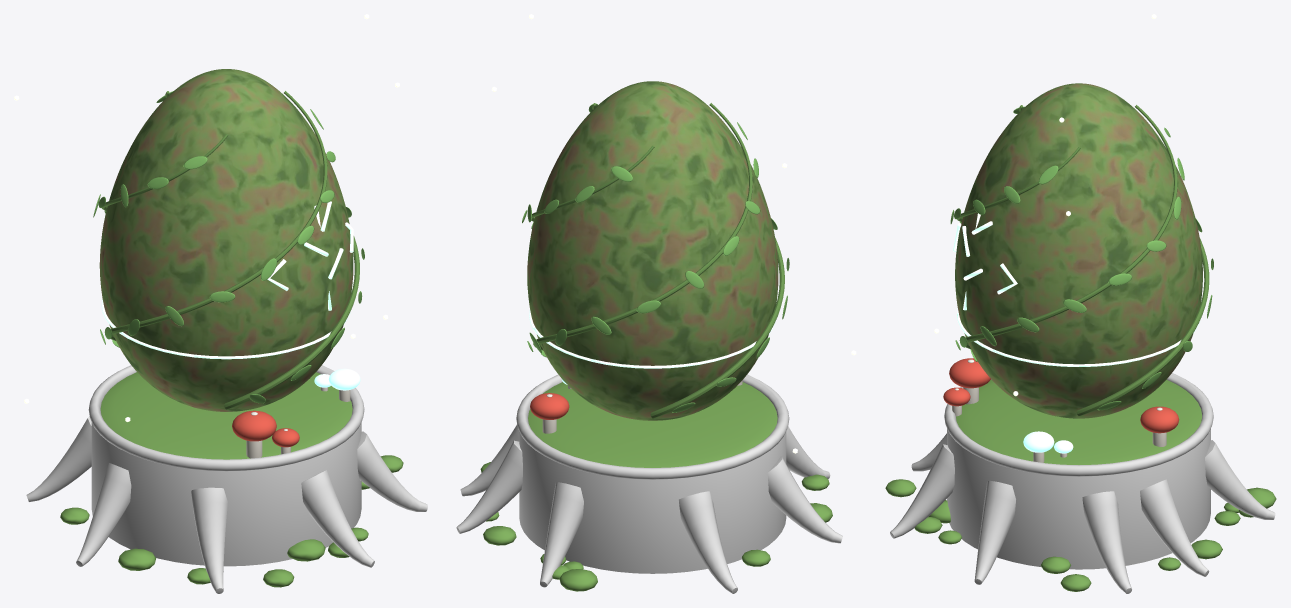
The model's file is ancientdruidegg.glb.
The picture shows the model from 3 angles, left to right: view 1: azimuth 30°, elevation 25°; view 2: azimuth 150°, elevation 25°; view 3: azimuth 270°, elevation 25°; orthographic projection. The views are drawn at different scales.
Visible parts, largest first — view 1: AncientDruidEgg_Body, AncientDruidEgg_Stump, AncientDruidEgg_MossTop, AncientDruidEgg_StumpRim, AncientDruidEgg_Root.005, AncientDruidEgg_Root.006, AncientDruidEgg_Root.004, AncientDruidEgg_Root.007, AncientDruidEgg_Root.003, AncientDruidEgg_Vine.001, AncientDruidEgg_Vine.002, AncientDruidEgg_ShroomCap (+3 smaller); view 2: AncientDruidEgg_Body, AncientDruidEgg_Stump, AncientDruidEgg_MossTop, AncientDruidEgg_StumpRim, AncientDruidEgg_Root.003, AncientDruidEgg_Root.002, AncientDruidEgg_Root.004, AncientDruidEgg_Root.001, AncientDruidEgg_Vine, AncientDruidEgg_Vine.001, AncientDruidEgg_Root.005, AncientDruidEgg_Root (+3 smaller); view 3: AncientDruidEgg_Body, AncientDruidEgg_Stump, AncientDruidEgg_MossTop, AncientDruidEgg_StumpRim, AncientDruidEgg_Root, AncientDruidEgg_Root.001, AncientDruidEgg_Root.007, AncientDruidEgg_Root.006, AncientDruidEgg_Root.002, AncientDruidEgg_Vine.002, AncientDruidEgg_Vine, AncientDruidEgg_ShroomCap (+2 smaller).
Boxes of the visible parts, left/top/right/bottom form: AncientDruidEgg_Body: left=99, top=69, right=353, bottom=411; AncientDruidEgg_Stump: left=91, top=422, right=361, bottom=566; AncientDruidEgg_MossTop: left=100, top=372, right=352, bottom=459; AncientDruidEgg_StumpRim: left=88, top=365, right=364, bottom=471; AncientDruidEgg_Root.005: left=191, top=487, right=227, bottom=593; AncientDruidEgg_Root.006: left=301, top=470, right=374, bottom=567; AncientDruidEgg_Root.004: left=76, top=463, right=131, bottom=566; AncientDruidEgg_Root.007: left=357, top=431, right=427, bottom=511; AncientDruidEgg_Root.003: left=26, top=416, right=91, bottom=501; AncientDruidEgg_Vine.001: left=111, top=91, right=327, bottom=340; AncientDruidEgg_Vine.002: left=165, top=91, right=359, bottom=409; AncientDruidEgg_ShroomCap: left=232, top=410, right=276, bottom=441; AncientDruidEgg_Body: left=527, top=81, right=778, bottom=420; AncientDruidEgg_Stump: left=519, top=431, right=786, bottom=573; AncientDruidEgg_MossTop: left=528, top=382, right=777, bottom=467; AncientDruidEgg_StumpRim: left=516, top=374, right=789, bottom=479; AncientDruidEgg_Root.003: left=679, top=491, right=737, bottom=593; AncientDruidEgg_Root.002: left=540, top=482, right=583, bottom=587; AncientDruidEgg_Root.004: left=767, top=456, right=842, bottom=543; AncientDruidEgg_Root.001: left=456, top=440, right=522, bottom=533; AncientDruidEgg_Vine: left=533, top=103, right=752, bottom=350; AncientDruidEgg_Vine.001: left=592, top=103, right=784, bottom=418; AncientDruidEgg_Root.005: left=786, top=426, right=830, bottom=478; AncientDruidEgg_Root: left=460, top=425, right=519, bottom=496; AncientDruidEgg_Body: left=955, top=83, right=1202, bottom=418; AncientDruidEgg_Stump: left=947, top=428, right=1210, bottom=569; AncientDruidEgg_MossTop: left=956, top=379, right=1201, bottom=464; AncientDruidEgg_StumpRim: left=944, top=373, right=1213, bottom=476; AncientDruidEgg_Root: left=1082, top=491, right=1131, bottom=593; AncientDruidEgg_Root.001: left=1140, top=479, right=1209, bottom=576; AncientDruidEgg_Root.007: left=974, top=480, right=1015, bottom=584; AncientDruidEgg_Root.006: left=890, top=444, right=954, bottom=538; AncientDruidEgg_Root.002: left=1205, top=440, right=1275, bottom=519; AncientDruidEgg_Vine.002: left=966, top=105, right=1177, bottom=349; AncientDruidEgg_Vine: left=1019, top=105, right=1209, bottom=416; AncientDruidEgg_ShroomCap: left=949, top=358, right=990, bottom=388.
Size of the model in its own units: 4.01 by 5.2 by 4.01.
11 materials, 1 textured.
